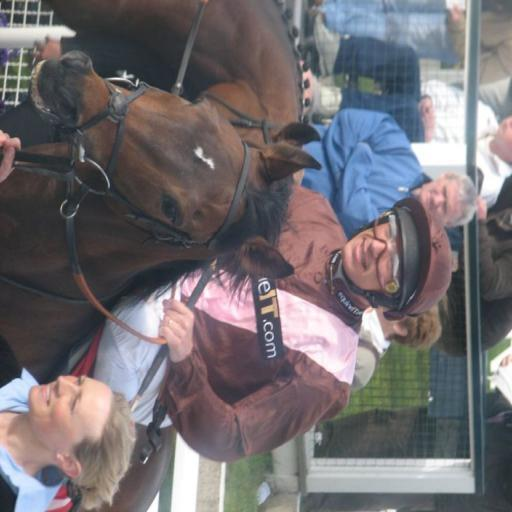Horse: (0, 48, 322, 511), (46, 0, 322, 189)
